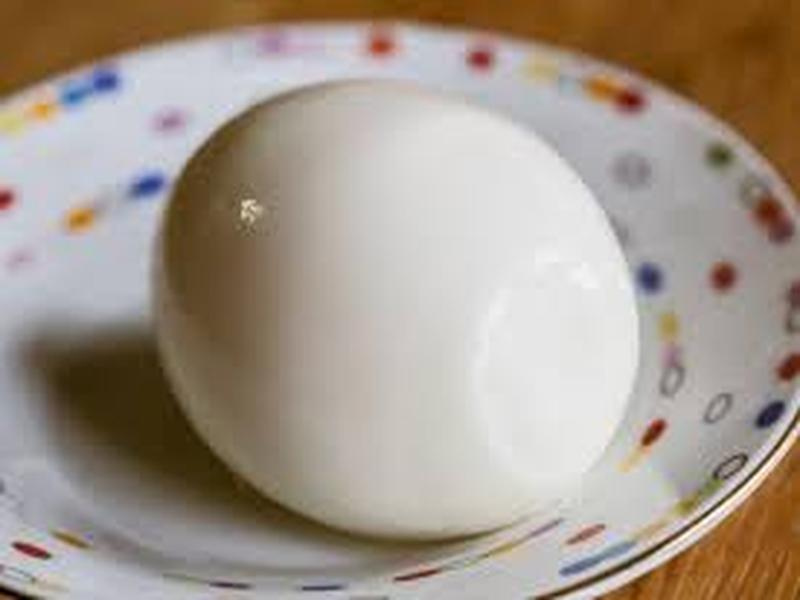egg: (138, 92, 632, 512)
